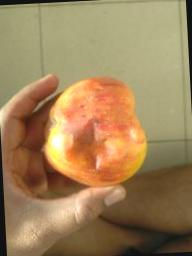Apple Overripe: (39, 73, 148, 187)
